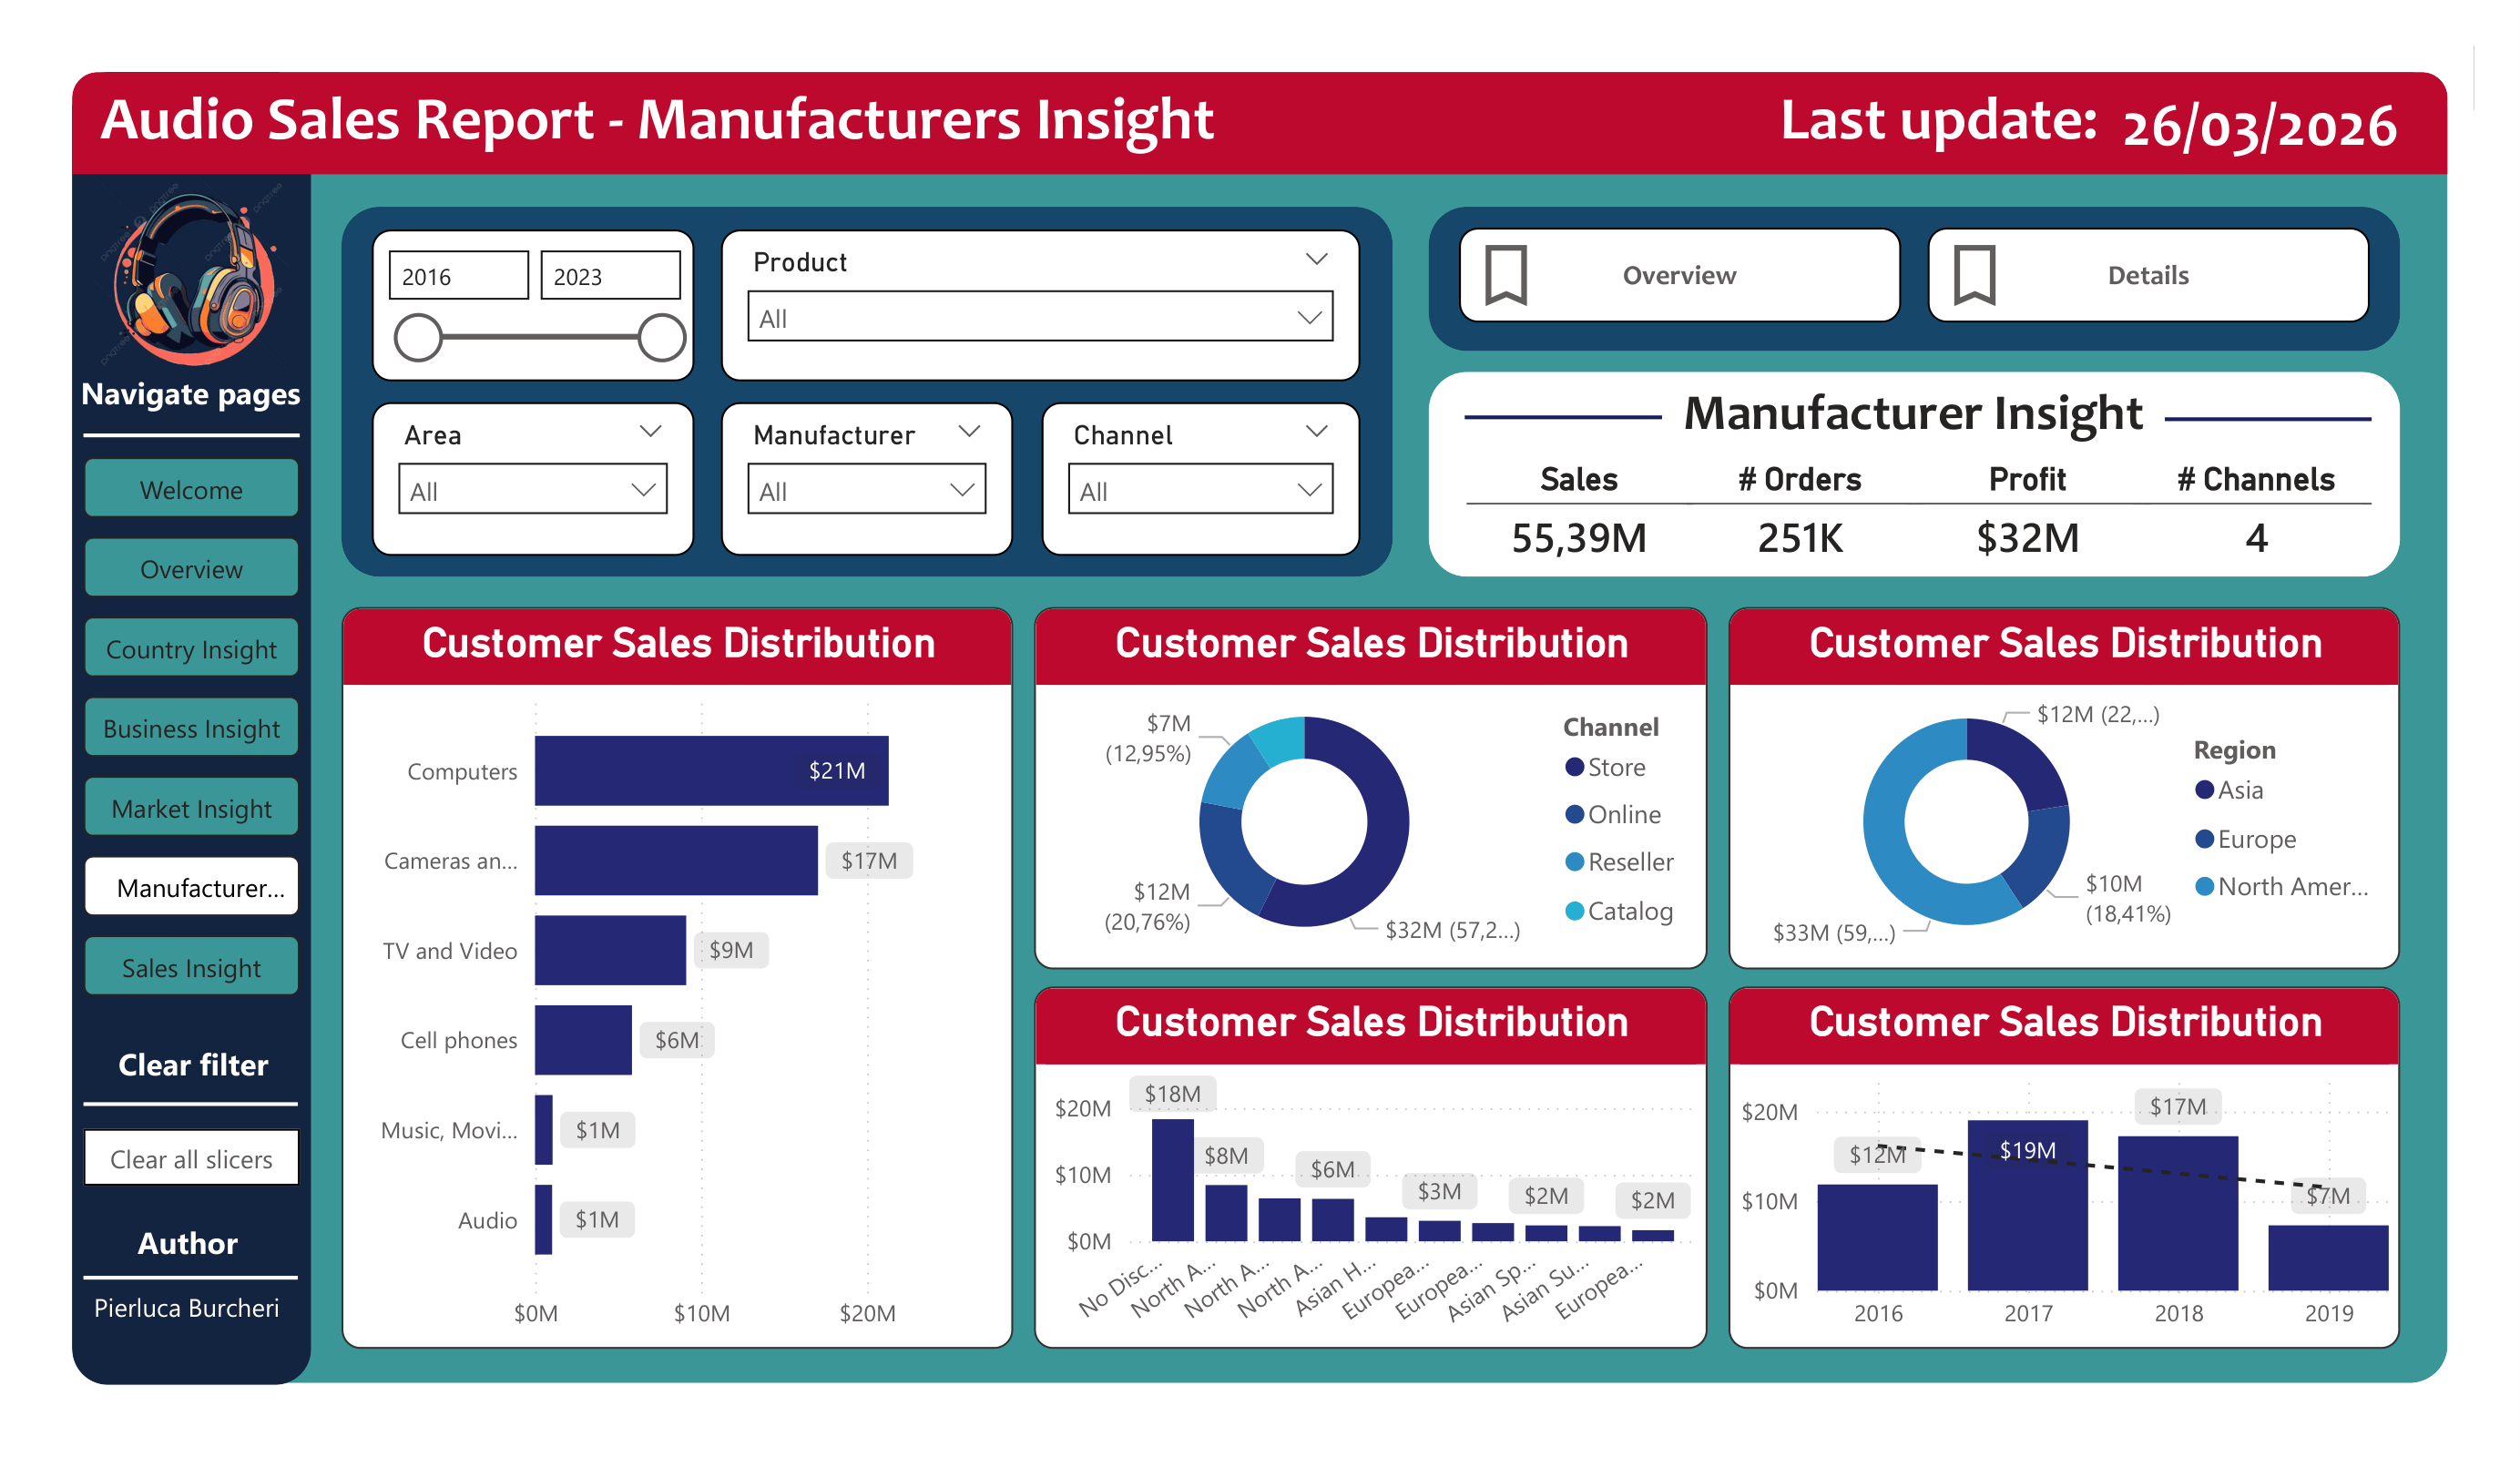

What the dashboard file says about the page in this screenshot:
{"tool":"powerbi","page":{"name":"Manufacturer Insight","canvas":[1280,720],"ordinal":5},"visuals":[{"type":"shape","box":[14.2,14.2,1251.6,690.6],"z":0},{"type":"shape","box":[14.2,14.2,126,691.5],"z":1000},{"type":"shape","box":[14.2,14.2,1252.2,53.6],"z":2000},{"type":"textbox","box":[23.6,14.2,612.7,55.1],"z":3000},{"type":"textbox","box":[909.4,14.2,222.8,52.7],"z":4000},{"type":"card","fields":{"Values":["_Date Master.TODAY"]},"box":[1077.5,14.2,180.3,52.7],"z":5000},{"type":"shape","box":[155.9,85.1,554.4,195.3],"z":7000},{"type":"slicer","fields":{"Values":["Audio Sales Data.Manufacturer"]},"box":[356,188.3,154.4,80.3],"z":8000},{"type":"slicer","fields":{"Values":["_Date Master.Year"]},"box":[171.7,97,170.1,80.3],"z":9000},{"type":"slicer","fields":{"Values":["Audio Sales Data.Region","Audio Sales Data.Country","Audio Sales Data.City"]},"box":[171.7,188.3,170.1,80.3],"z":10000},{"type":"slicer","fields":{"Values":["Audio Sales Data.Product Category","Audio Sales Data.Product Sub Category","Audio Sales Data.Product Name"]},"box":[356,97,337.1,80.3],"z":11000},{"type":"slicer","fields":{"Values":["Audio Sales Data.Channel"]},"box":[524.5,188.3,168.5,80.3],"z":12000},{"type":"clusteredBarChart","title":"Customer Sales Distribution","fields":{"Category":["Audio Sales Data.Product Category","Audio Sales Data.Product Sub Category"],"Y":["_Measures.Total Sales"]},"box":[155.9,296.1,354.4,390.6],"z":13000},{"type":"image","box":[14,65.8,127.3,109.1],"z":14000},{"type":"shape","box":[729.3,172,512,108],"z":14000,"group":"g2"},{"type":"textbox","box":[7.9,167.4,137,31.5],"z":15000},{"type":"cardVisual","title":"Sales","fields":{"Data":["Sum(Audio Sales Data.Sales)"]},"box":[748.9,218.2,118.9,57.4],"z":15000,"group":"g2"},{"type":"shape","box":[748.6,176.4,104,37.8],"z":16000,"group":"g2"},{"type":"shape","box":[20.5,184.7,113.4,41],"z":16000},{"type":"cardVisual","title":"# Orders","fields":{"Data":["_Measures.Total Orders"]},"box":[865,218.2,120.3,57.4],"z":17000,"group":"g2"},{"type":"group","id":"g1","title":"Group 1","box":[20.5,614.8,113.4,71.9],"z":17000},{"type":"textbox","box":[852.5,171.7,264.6,45.7],"z":18000,"group":"g2"},{"type":"actionButton","box":[20.5,570.6,113.4,29.9],"z":18000},{"type":"shape","box":[1117.2,178,108.7,37.8],"z":19000,"group":"g2"},{"type":"shape","box":[20,537.6,113.4,40.5],"z":19000},{"type":"cardVisual","title":"Profit","fields":{"Data":["_Measures.Total Profit"]},"box":[985.3,218.2,120.3,57.4],"z":20000,"group":"g2"},{"type":"textbox","box":[7.9,521.4,139.7,38.5],"z":20000},{"type":"pageNavigator","box":[20.5,217.4,113.4,289.8],"z":21000},{"type":"cardVisual","title":"# Channels","fields":{"Data":["_Measures.# Channels"]},"box":[1105.6,218.2,120.3,57.4],"z":21000,"group":"g2"},{"type":"donutChart","title":"Customer Sales Distribution","fields":{"Y":["_Measures.Total Sales"],"Category":["Audio Sales Data.Region","Audio Sales Data.Country"]},"box":[886.8,296.1,354.4,190.6],"z":22000},{"type":"donutChart","title":"Customer Sales Distribution","fields":{"Category":["Audio Sales Data.Channel"],"Y":["_Measures.Total Sales"]},"box":[521.4,296.1,354.4,190.6],"z":23000},{"type":"clusteredColumnChart","title":"Customer Sales Distribution","fields":{"Category":["_Date Master.Year","_Date Master.MonthName","_Date Master.WeekDayNameShort","_Date Master.Day"],"Y":["_Measures.Total Sales"]},"box":[886.8,496.2,354.4,190.6],"z":24000},{"type":"columnChart","title":"Customer Sales Distribution","fields":{"Category":["Audio Sales Data.Promotion Name"],"Y":["_Measures.Total Sales"]},"box":[521.4,496.2,354.4,190.6],"z":25000},{"type":"shape","box":[20.5,629,113.4,41],"z":25000,"group":"g1"},{"type":"group","id":"g2","title":"Group 2","box":[729.3,171.7,511.9,108.7],"z":26000},{"type":"textbox","box":[31.5,614.8,88.2,37.8],"z":26000,"group":"g1"},{"type":"shape","box":[729.3,85.1,511.9,75.6],"z":27000},{"type":"textbox","box":[20.5,650.5,108.7,36.2],"z":27000,"group":"g1"},{"type":"actionButton","box":[745,96.1,233.1,50.4],"z":28000},{"type":"actionButton","box":[992.3,96.1,233.1,50.4],"z":29000}]}

Visuals, with their boxes on the page's 1280x720 design canvas (x1, y1, x2, y2). These are canvas units, not pixel positions in the 2520x1457 screenshot, which may show the page scaled, cropped or inside an application window:
shape: 14, 14, 1266, 705
shape: 14, 14, 140, 706
shape: 14, 14, 1266, 68
textbox: 24, 14, 636, 69
textbox: 909, 14, 1132, 67
card - _Date Master.TODAY: 1078, 14, 1258, 67
shape: 156, 85, 710, 280
slicer - Audio Sales Data.Manufacturer: 356, 188, 510, 269
slicer - _Date Master.Year: 172, 97, 342, 177
slicer - Audio Sales Data.Region x Audio Sales Data.Country: 172, 188, 342, 269
slicer - Audio Sales Data.Product Category x Audio Sales Data.Product Sub Category: 356, 97, 693, 177
slicer - Audio Sales Data.Channel: 524, 188, 693, 269
"Customer Sales Distribution" clusteredBarChart: 156, 296, 510, 687
image: 14, 66, 141, 175
shape: 729, 172, 1241, 280
textbox: 8, 167, 145, 199
"Sales" cardVisual: 749, 218, 868, 276
shape: 749, 176, 853, 214
shape: 20, 185, 134, 226
"# Orders" cardVisual: 865, 218, 985, 276
"Group 1" group: 20, 615, 134, 687
textbox: 852, 172, 1117, 217
actionButton: 20, 571, 134, 600
shape: 1117, 178, 1226, 216
shape: 20, 538, 133, 578
"Profit" cardVisual: 985, 218, 1106, 276
textbox: 8, 521, 148, 560
pageNavigator: 20, 217, 134, 507
"# Channels" cardVisual: 1106, 218, 1226, 276
"Customer Sales Distribution" donutChart: 887, 296, 1241, 487
"Customer Sales Distribution" donutChart: 521, 296, 876, 487
"Customer Sales Distribution" clusteredColumnChart: 887, 496, 1241, 687
"Customer Sales Distribution" columnChart: 521, 496, 876, 687
shape: 20, 629, 134, 670
"Group 2" group: 729, 172, 1241, 280
textbox: 32, 615, 120, 653
shape: 729, 85, 1241, 161
textbox: 20, 650, 129, 687
actionButton: 745, 96, 978, 146
actionButton: 992, 96, 1225, 146
